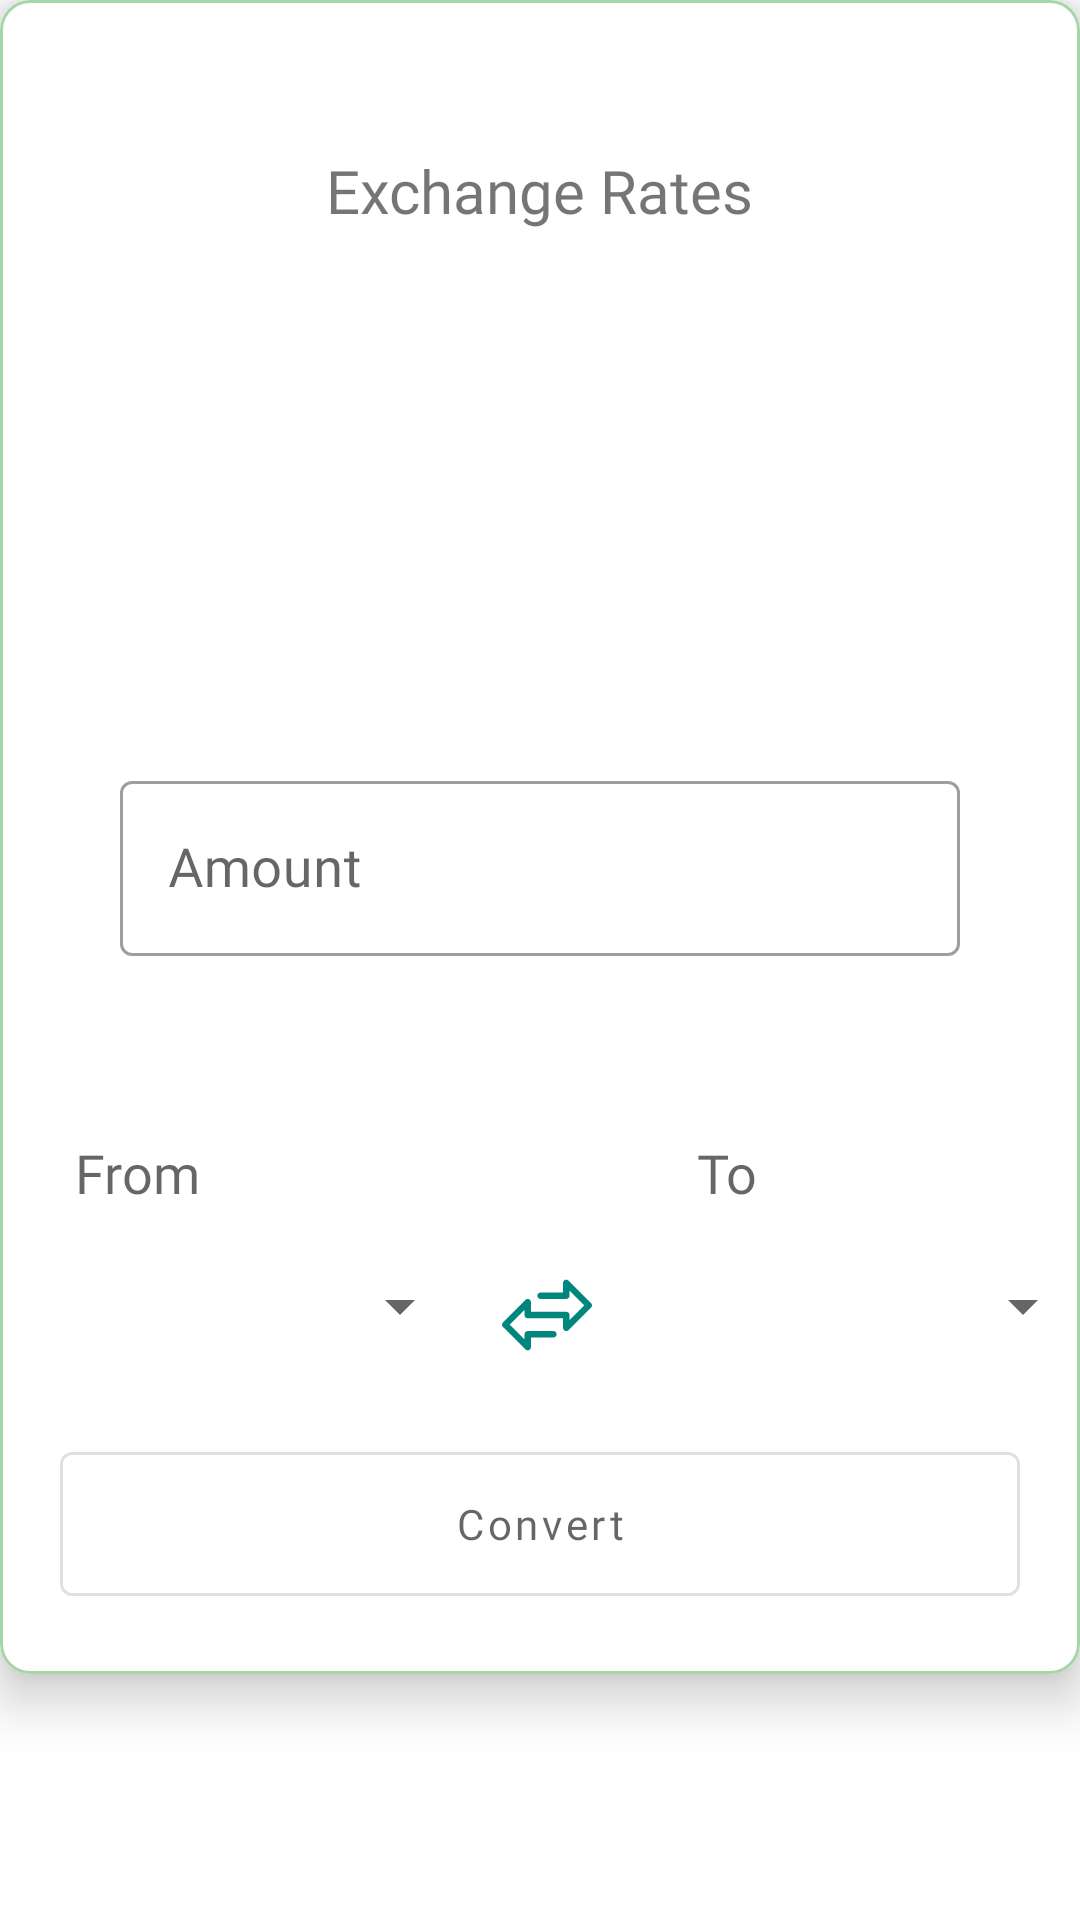

Locate icon controls on the screen. Image size 1080 × 1920, boxes as (x1, y1, x2, y2).
transfer: (502, 1279, 592, 1351)
